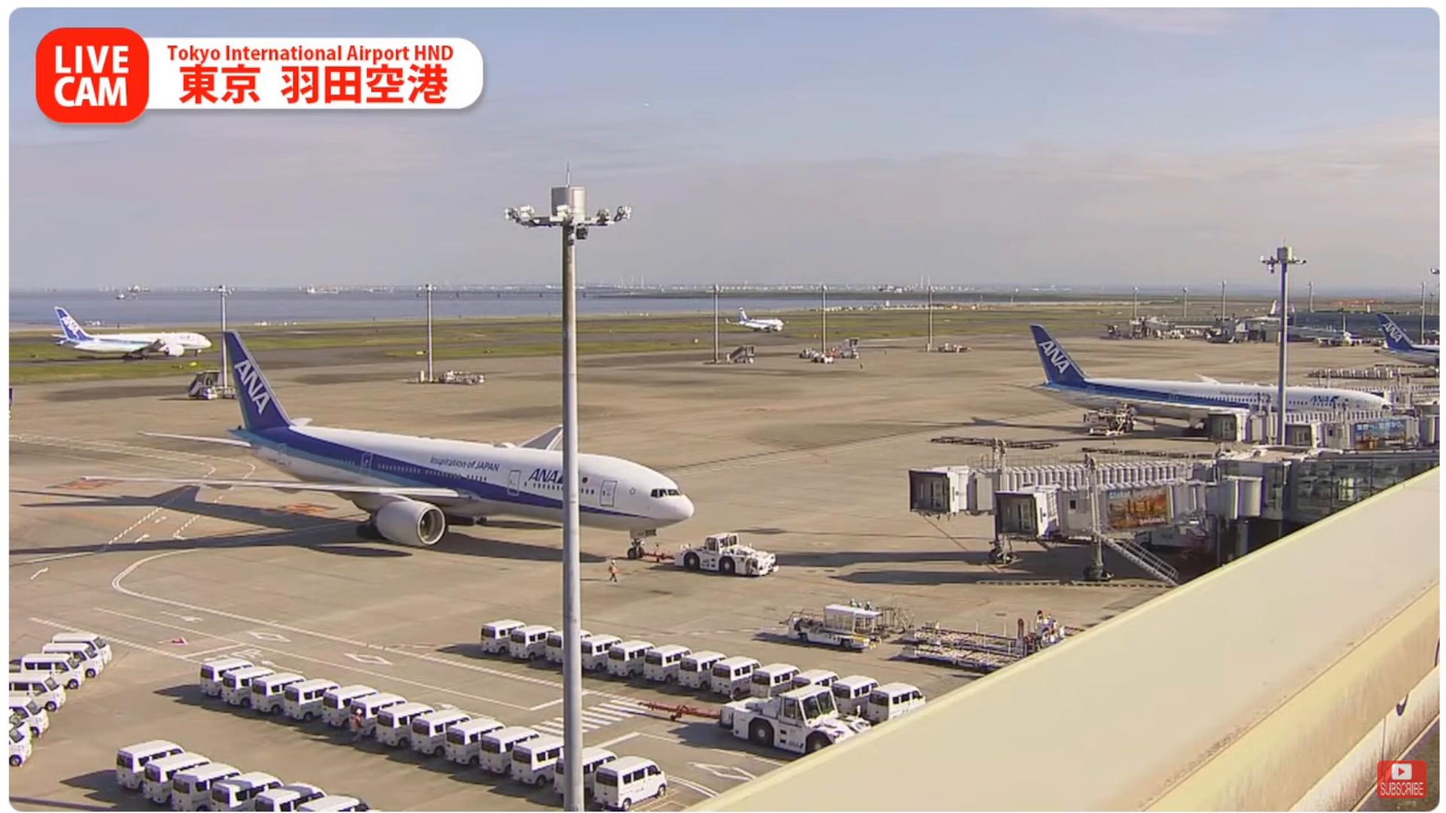APS: (663, 533, 816, 581)
Aerobridge: (956, 480, 1243, 535), (885, 461, 1213, 481)
Airplane: (75, 326, 695, 555)
JCPL: (919, 616, 1080, 653), (886, 632, 1034, 671)
Skyloader: (773, 607, 898, 644)
Window: (1270, 448, 1442, 536)
